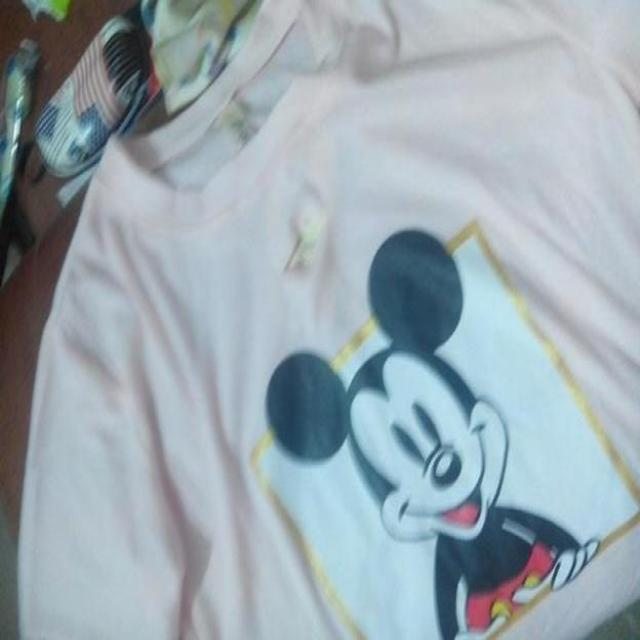short-sleeve-top: (35, 34, 640, 616)
